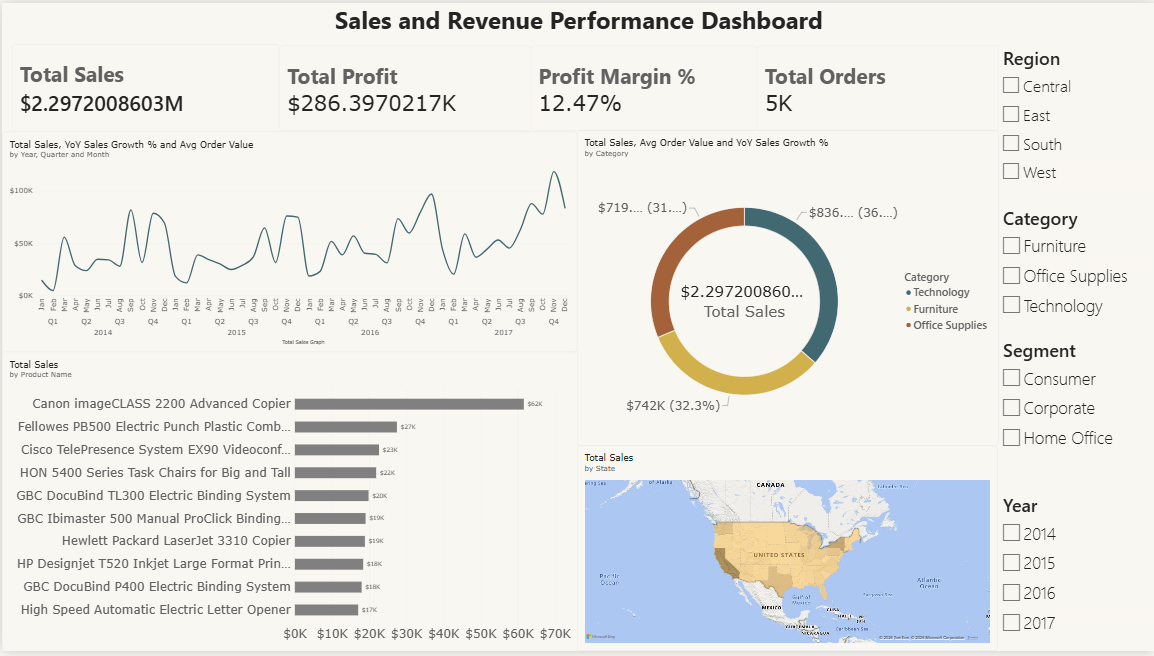

The page's visual inventory and layout, read from the dashboard file:
{"tool":"powerbi","page":{"name":"Overview","canvas":[2560,1440],"ordinal":0},"visuals":[{"type":"cardVisual","fields":{"Data":["MeasuresTable.Total Sales"]},"box":[21.9,90.6,593.8,193.8],"z":0},{"type":"cardVisual","fields":{"Data":["MeasuresTable.Total Profit"]},"box":[615.6,93.8,559.4,190.6],"z":1000},{"type":"cardVisual","fields":{"Data":["MeasuresTable.Profit Margin %"]},"box":[1175,93.8,503.1,190.6],"z":2000},{"type":"cardVisual","fields":{"Data":["MeasuresTable.Total Orders"]},"box":[1678.1,93.8,537.5,190.6],"z":3000},{"type":"textbox","box":[0,0,2553.1,90.6],"z":4000},{"type":"lineChart","fields":{"Category":["DateTable.Year","DateTable.Quarter","DateTable.Month"],"Y":["MeasuresTable.Total Sales"]},"box":[0,286.7,1278.1,490.6],"z":6000},{"type":"clusteredBarChart","fields":{"Category":["Superstore.Product Name"],"Y":["MeasuresTable.Total Sales"]},"box":[0,775,1281.2,665.6],"z":7000},{"type":"donutChart","fields":{"Category":["Superstore.Category"],"Y":["MeasuresTable.Total Sales"]},"box":[1278.1,284.4,937.5,700],"z":8000},{"type":"filledMap","fields":{"Category":["Superstore.State"]},"box":[1276.7,983.3,934.4,456.2],"z":9000},{"type":"slicer","fields":{"Values":["Superstore.Region"]},"box":[2215.6,93.8,343.8,318.8],"z":10000},{"type":"slicer","fields":{"Values":["Superstore.Category"]},"box":[2215.6,450,337.5,293.8],"z":11000},{"type":"slicer","fields":{"Values":["Superstore.Segment"]},"box":[2215.6,743.8,343.8,303.1],"z":12000},{"type":"slicer","fields":{"Values":["DateTable.Year"]},"box":[2215.6,1087.5,343.8,353.1],"z":13000}]}

Visuals, with their boxes in screenshot pixels (x1, y1, x2, y2), scaled from the page's 2560x1440 canvas onto the 1154x656 screenshot:
cardVisual - MeasuresTable.Total Sales: 10,41,278,130
cardVisual - MeasuresTable.Total Profit: 278,43,530,130
cardVisual - MeasuresTable.Profit Margin %: 530,43,756,130
cardVisual - MeasuresTable.Total Orders: 756,43,999,130
textbox: 0,0,1151,41
lineChart - DateTable.Year x DateTable.Quarter: 0,131,576,354
clusteredBarChart - Superstore.Product Name x MeasuresTable.Total Sales: 0,353,578,655
donutChart - Superstore.Category x MeasuresTable.Total Sales: 576,130,999,448
filledMap - Superstore.State: 576,448,997,655
slicer - Superstore.Region: 999,43,1153,188
slicer - Superstore.Category: 999,205,1151,339
slicer - Superstore.Segment: 999,339,1153,477
slicer - DateTable.Year: 999,495,1153,655
